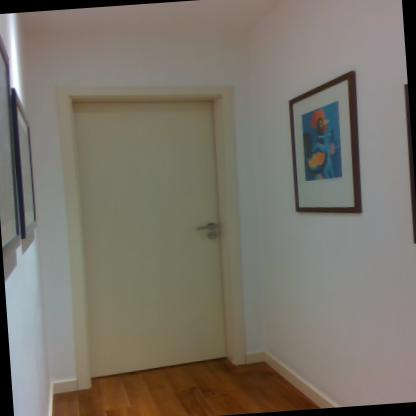closed: (50, 71, 262, 396)
